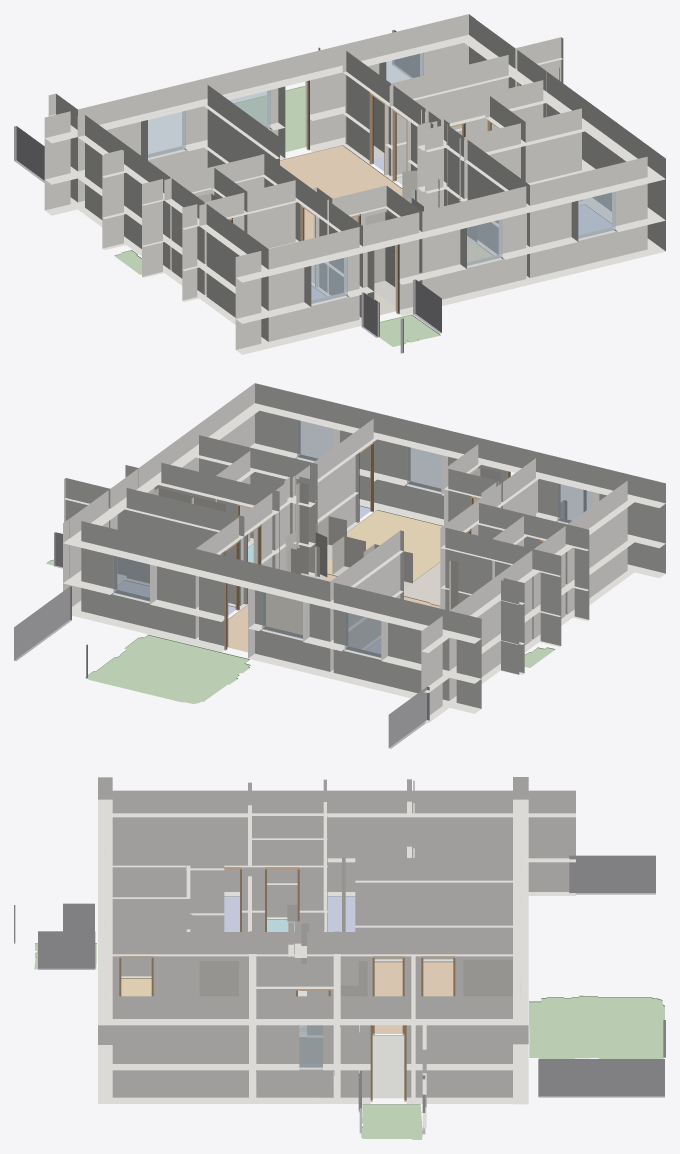
3 views of the same model, one above another, from view 1: azimuth 30°, elevation 25°; view 2: azimuth 150°, elevation 25°; view 3: azimuth 270°, elevation 25° (orthographic). The views are drawn at different scales.
Parts seen in each view (by area): view 1: walls, floor_1_Living_Room, railings, floor_13_Outdoor, window_3, window_0, furniture_7_closet, window_6, window_1, floor_16_Outdoor, window_4, window_2 (+2 smaller); view 2: walls, floor_13_Outdoor, railings, floor_3_Kitchen, floor_1_Living_Room, window_4, window_3, window_2, window_1, window_0, window_6, furniture_22_chimney (+4 smaller); view 3: walls, railings, floor_13_Outdoor, floor_1_Living_Room, floor_14_Outdoor, floor_5_Undefined, furniture_0_closet, furniture_6_closet, window_7, floor_0_Bed_Room, furniture_20_sauna_bench, floor_3_Kitchen (+1 smaller).
Part boxes in pixels (x1,y1,x2,y2): walls: (44, 14, 665, 354); floor_1_Living_Room: (280, 145, 402, 240); railings: (14, 30, 441, 353); floor_13_Outdoor: (234, 86, 305, 151); window_3: (148, 107, 185, 157); window_0: (578, 192, 615, 238); furniture_7_closet: (365, 212, 420, 308); window_6: (311, 257, 347, 303); window_1: (463, 219, 502, 265); floor_16_Outdoor: (379, 314, 440, 346); window_4: (226, 86, 270, 128); window_2: (386, 50, 423, 83); walls: (63, 383, 665, 723); floor_13_Outdoor: (85, 634, 250, 703); railings: (14, 490, 586, 748); floor_3_Kitchen: (327, 510, 442, 581); floor_1_Living_Room: (228, 573, 440, 652); window_4: (262, 590, 306, 638); window_3: (344, 612, 384, 657); window_2: (113, 553, 153, 601); window_1: (407, 447, 441, 491); window_0: (297, 420, 336, 461); window_6: (557, 483, 592, 522); furniture_22_chimney: (296, 482, 308, 575); walls: (98, 777, 575, 1128); railings: (14, 855, 665, 1134); floor_13_Outdoor: (529, 995, 664, 1058); floor_1_Living_Room: (374, 961, 453, 1033); floor_14_Outdoor: (361, 1104, 422, 1139); floor_5_Undefined: (372, 1035, 404, 1098); furniture_0_closet: (463, 959, 512, 996); furniture_6_closet: (199, 961, 238, 996); window_7: (299, 1025, 322, 1067); floor_0_Bed_Room: (327, 896, 355, 931); furniture_20_sauna_bench: (256, 1038, 334, 1097); floor_3_Kitchen: (121, 978, 151, 996).
Size of the model in its own units: 14.9 by 2.72 by 15.75.
